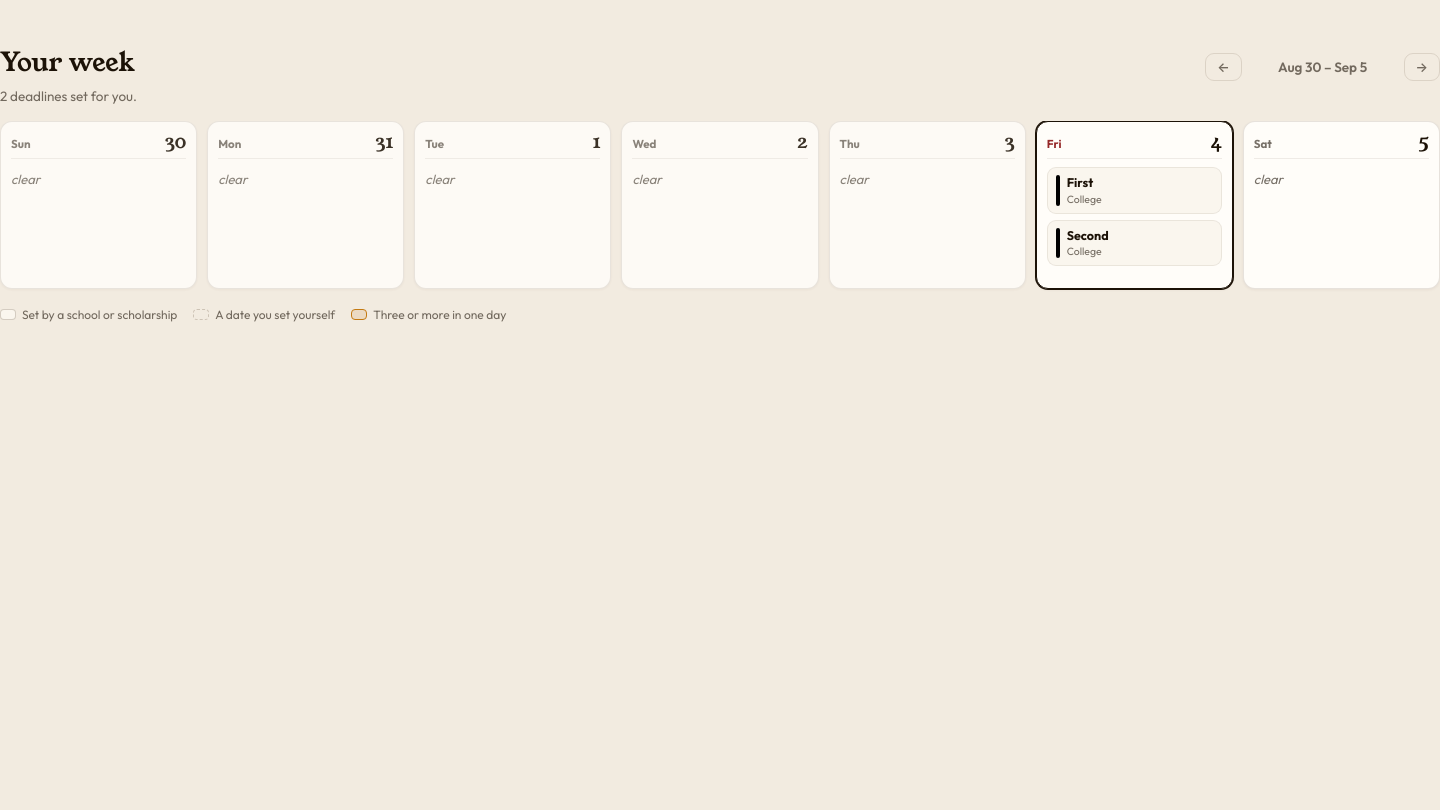
WeekOverview — opening an event › shows one panel at a time
Click the button "First College" at (1134, 190), box [1047,167,1222,214]
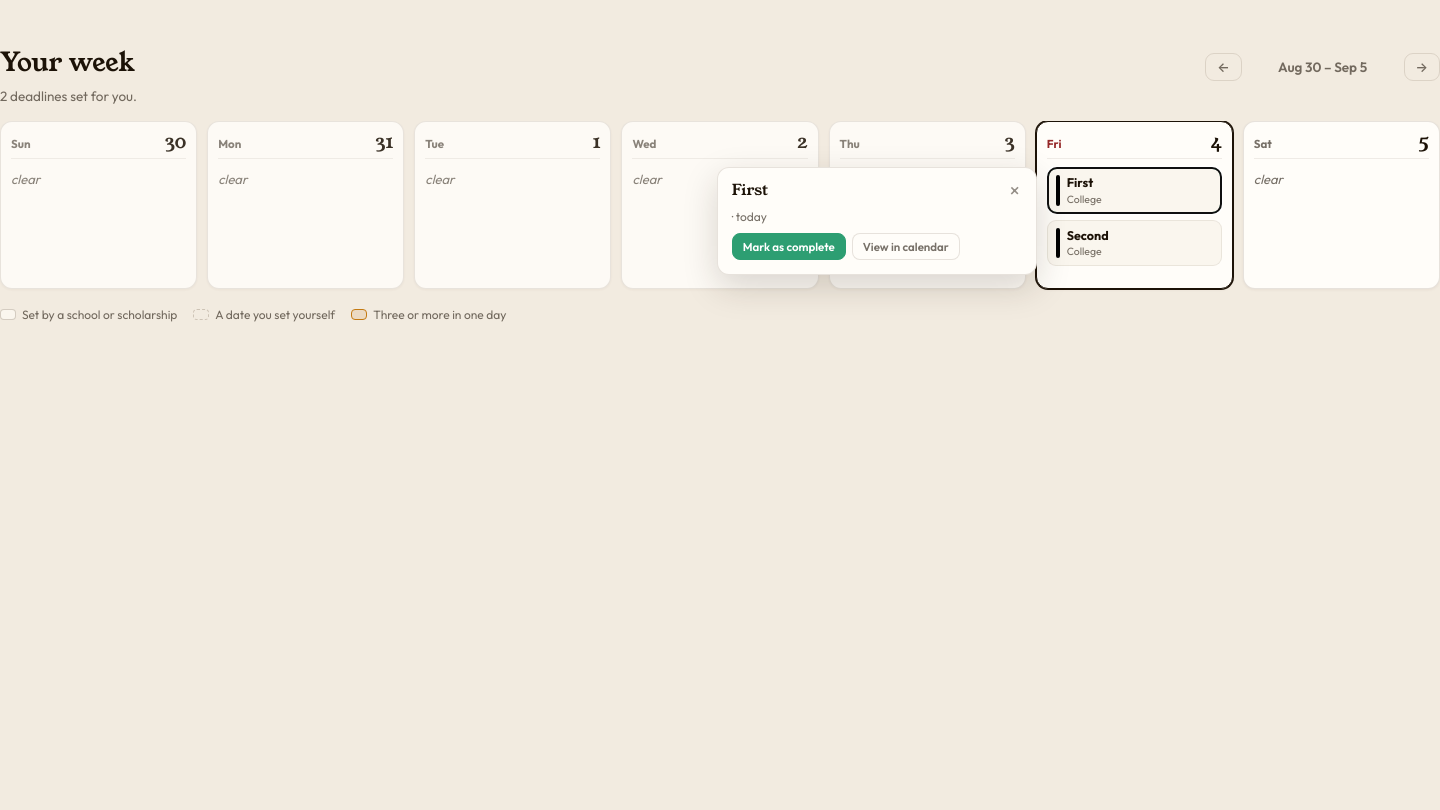
Click the button "Second College" at (1134, 243), box [1047,220,1222,266]
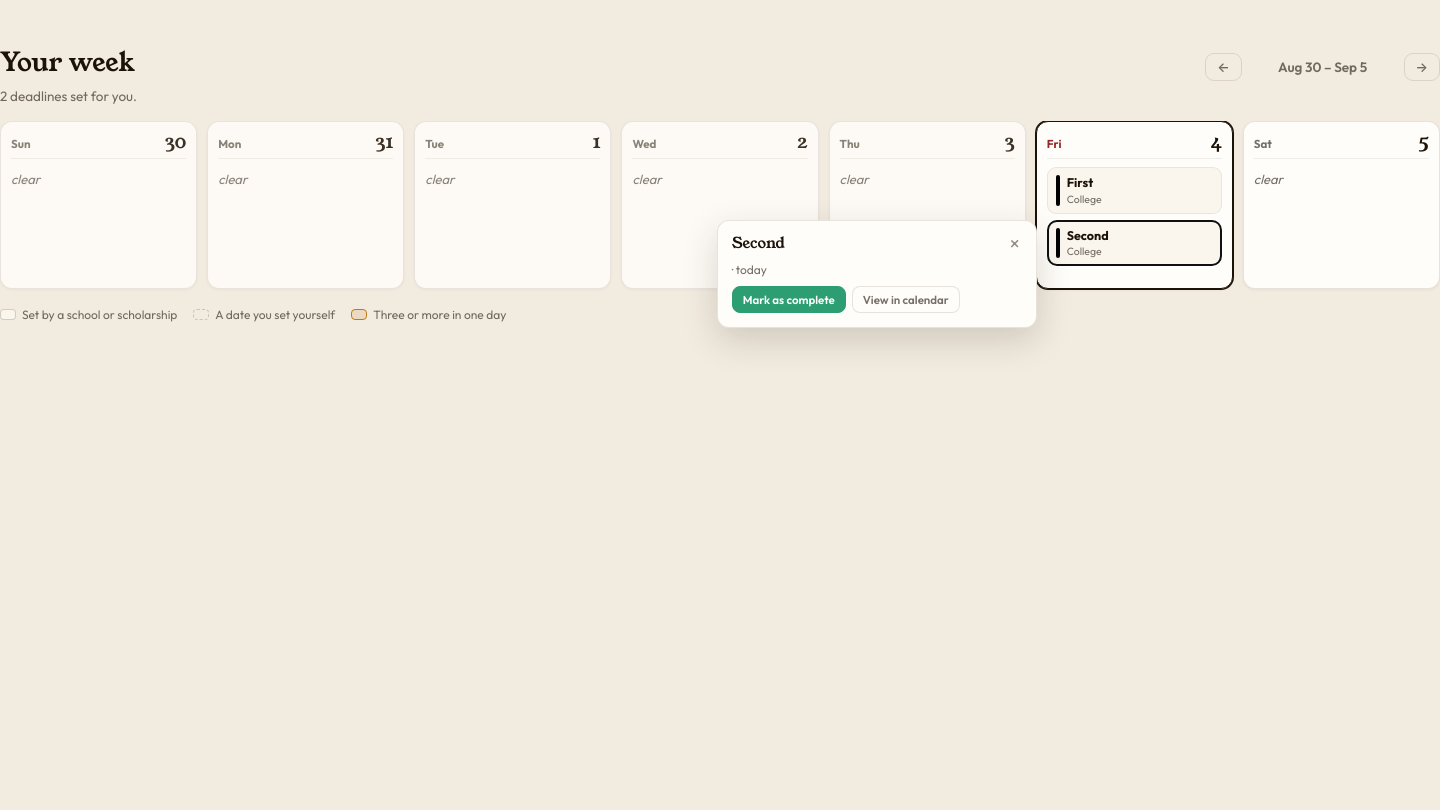
Expected: the number of dialogs is 1, [717,220,1037,328]
